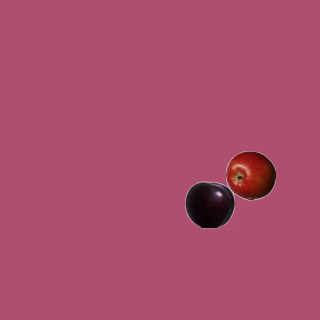Apple Braeburn: (225, 150, 275, 200)
Cherry Wax Black: (184, 179, 234, 229)
